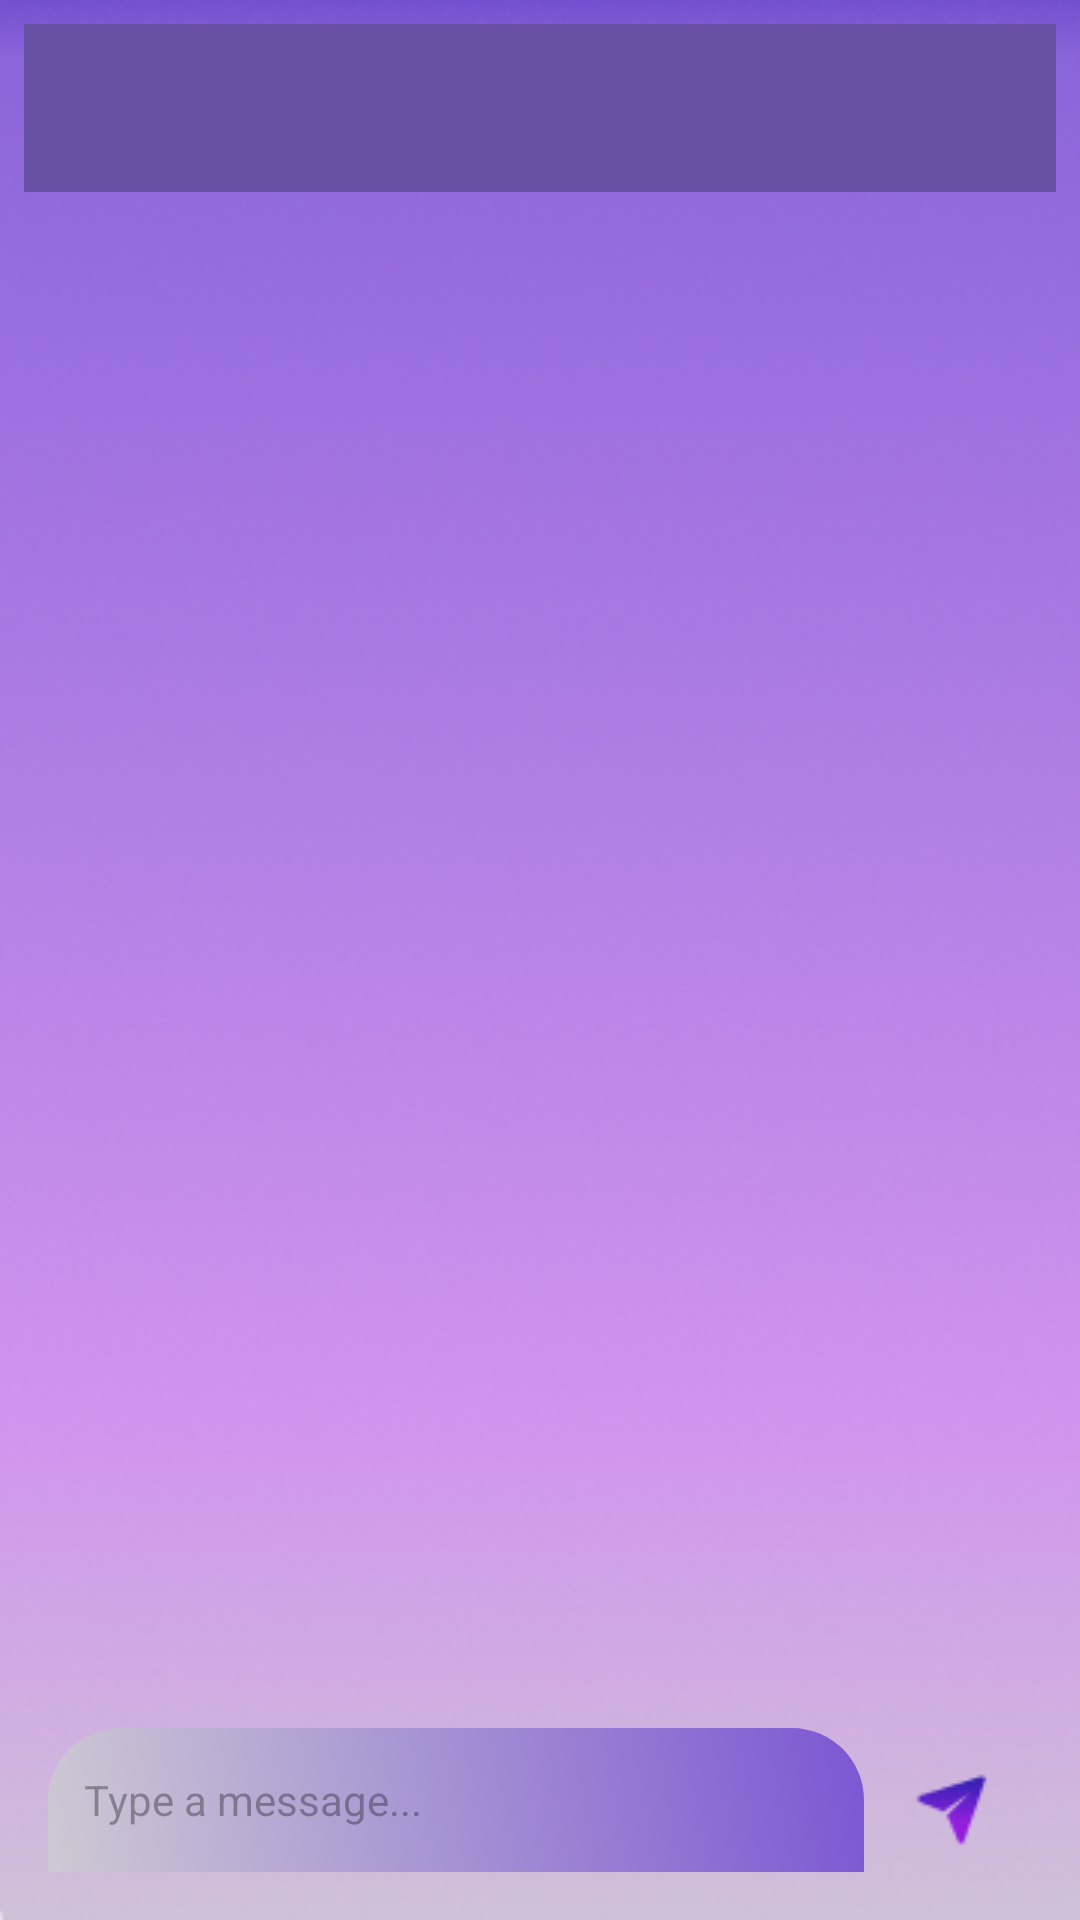

Screen size 1080*1920. Icon name, then its box in pixels as [left=x1, top=y1, right=x2, bottom=y2]:
Send Button: [left=916, top=1774, right=987, bottom=1845]
